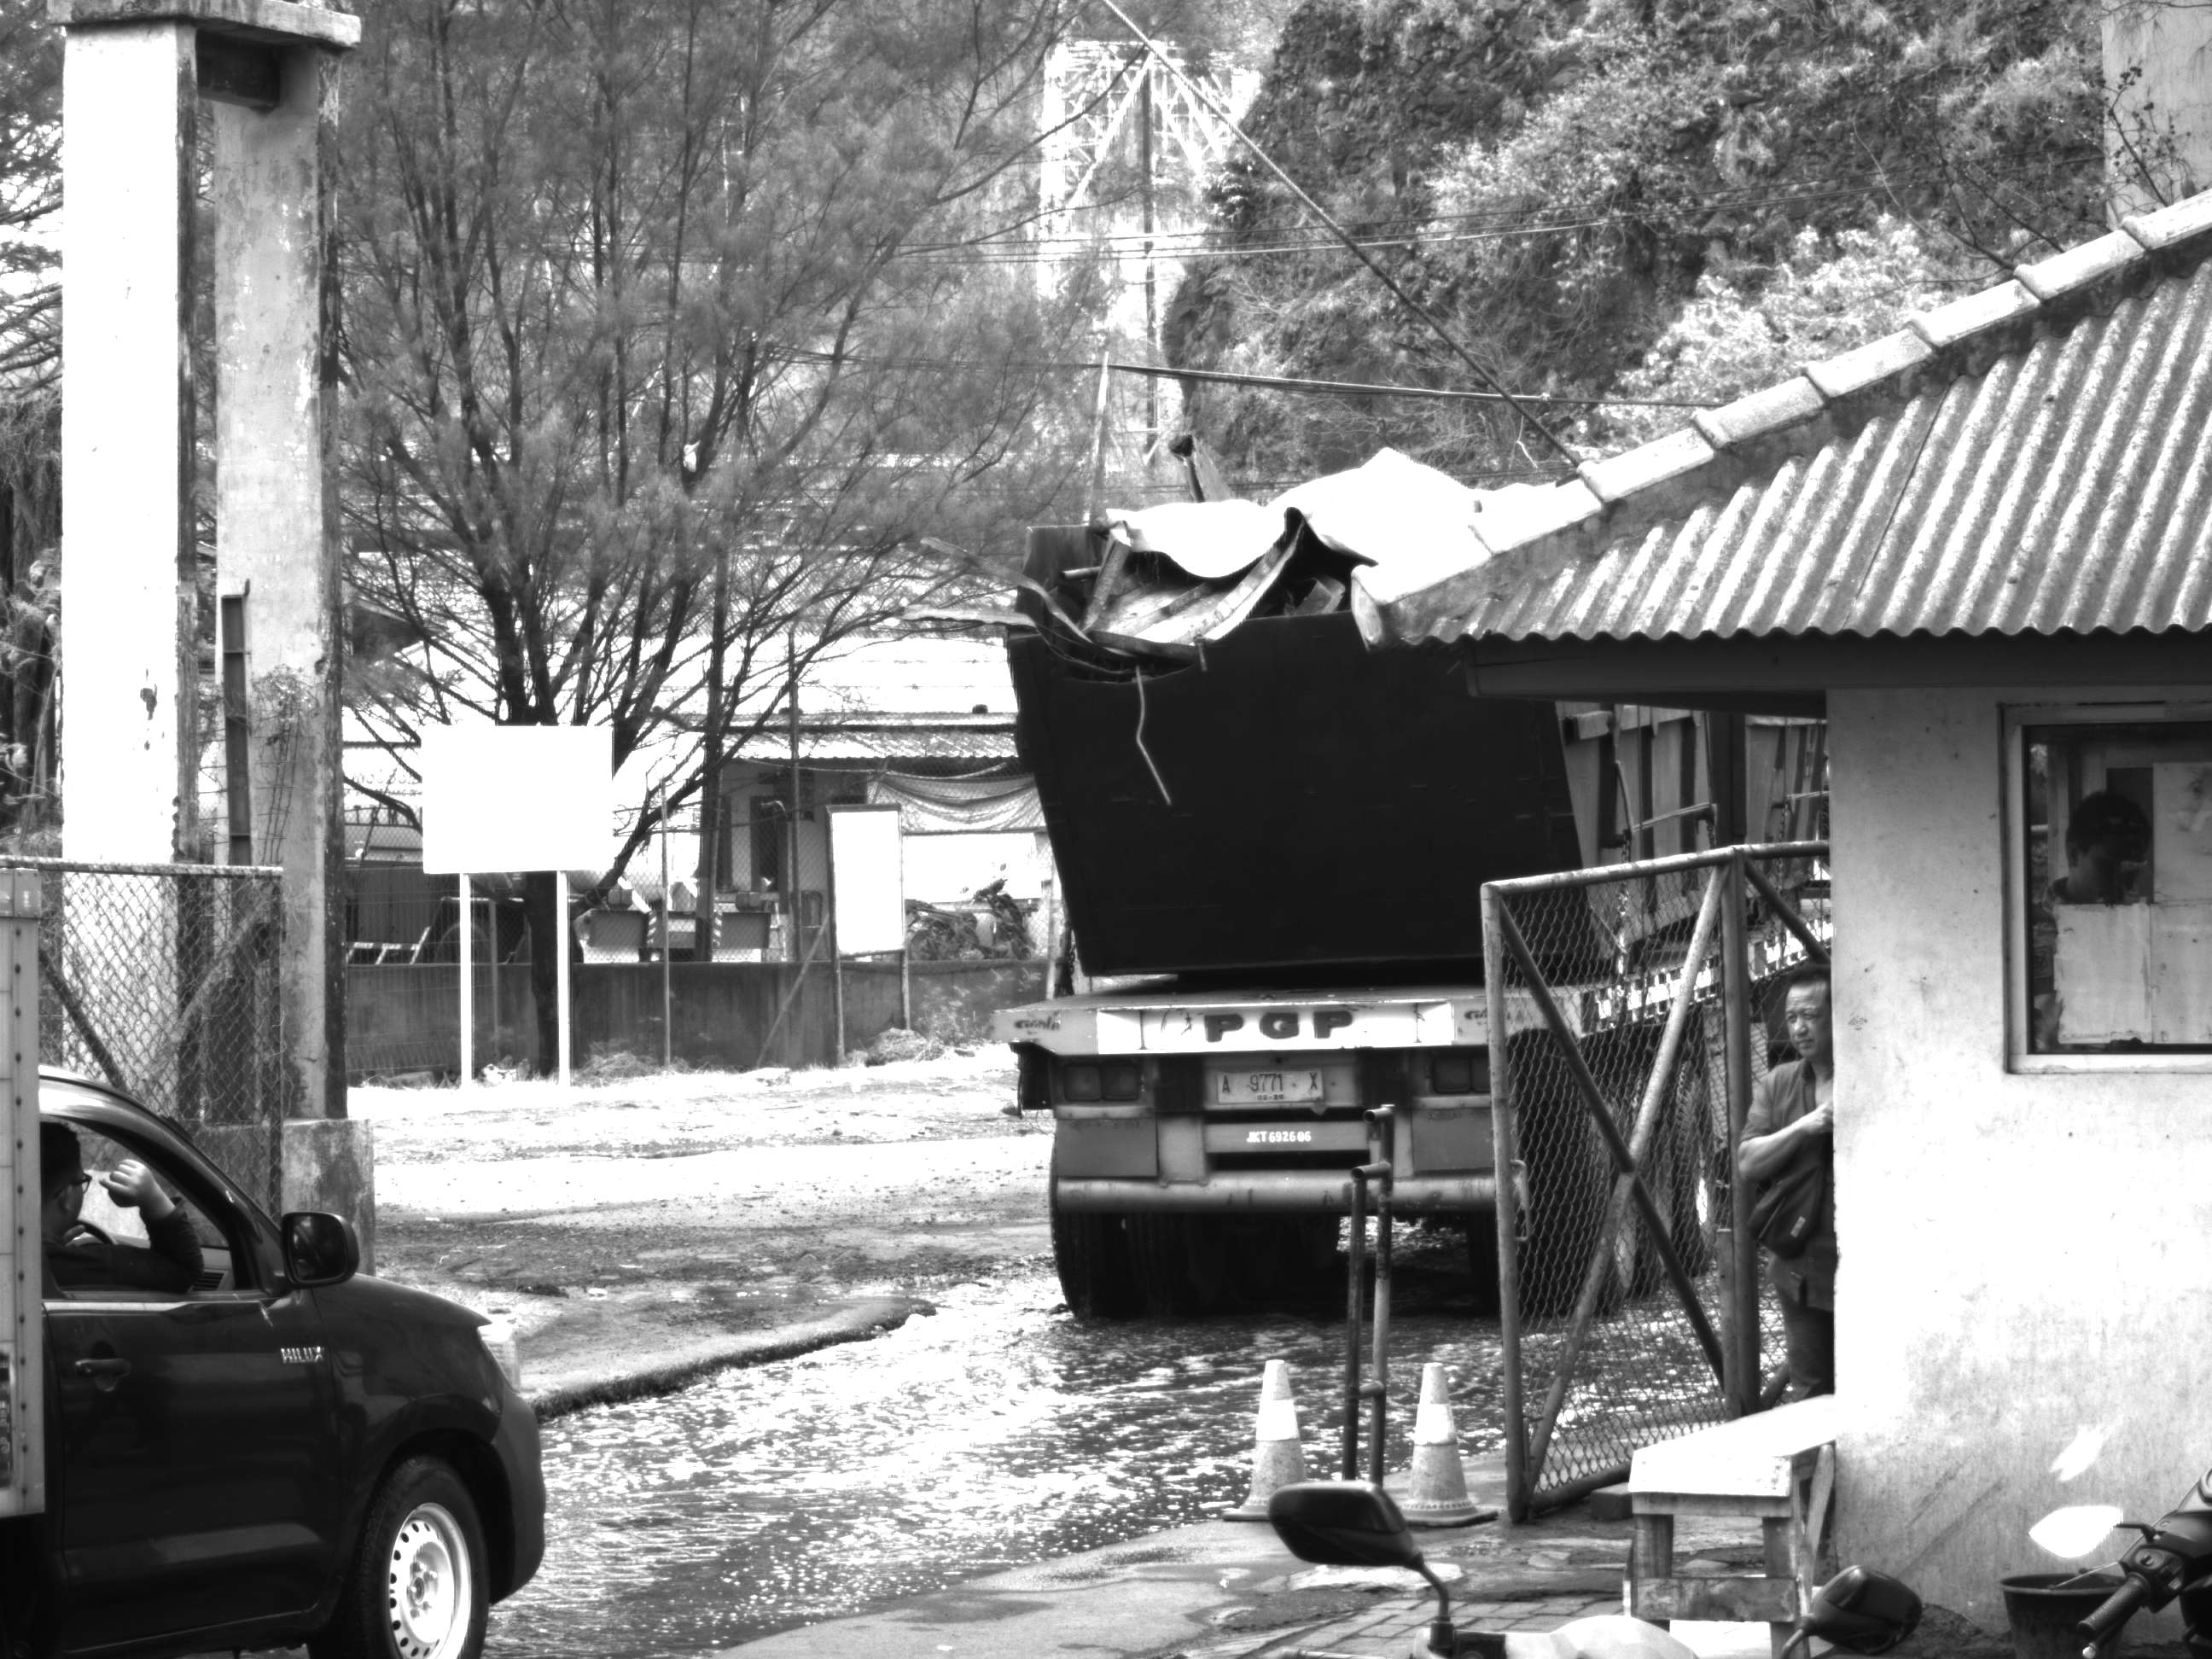day_truck_rear: (991, 976, 1657, 1321)
plate: (1216, 1067, 1325, 1106)
